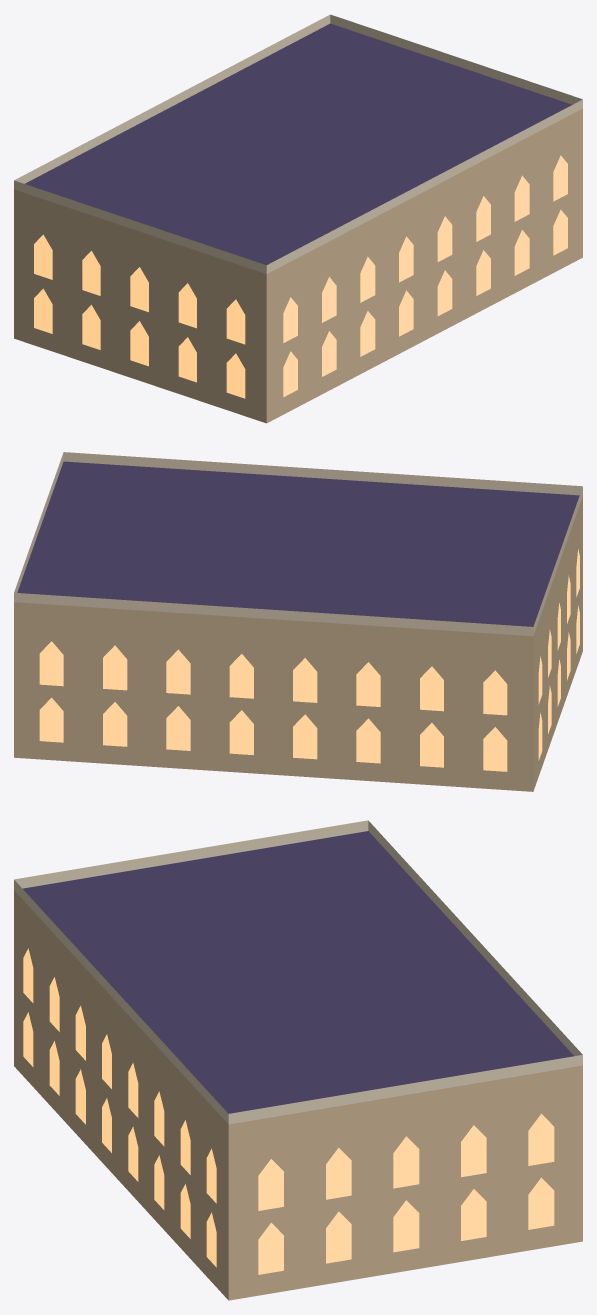
The picture shows the model from 3 angles, top to bottom: view 1: azimuth 30°, elevation 25°; view 2: azimuth 150°, elevation 25°; view 3: azimuth 270°, elevation 25°; orthographic projection. The views are drawn at different scales.
Visible parts, largest first — view 1: campus/b-103-0; view 2: campus/b-103-0; view 3: campus/b-103-0.
Part boxes in pixels (box(x1,y1,x2,y2)): campus/b-103-0: box(14, 14, 582, 423); campus/b-103-0: box(14, 452, 582, 791); campus/b-103-0: box(14, 820, 582, 1300).
Size of the model in its own units: 32.53 by 9.65 by 26.65.
